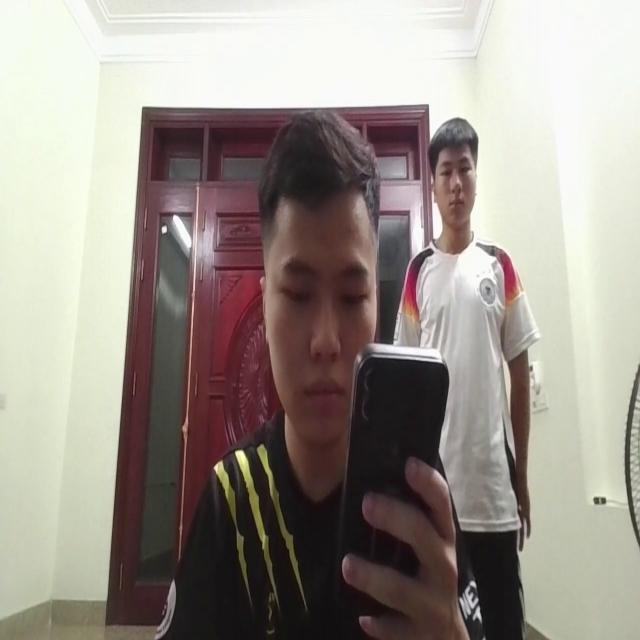extra_person: (395, 112, 526, 556)
phone: (333, 327, 448, 611)
student: (188, 106, 435, 640)
